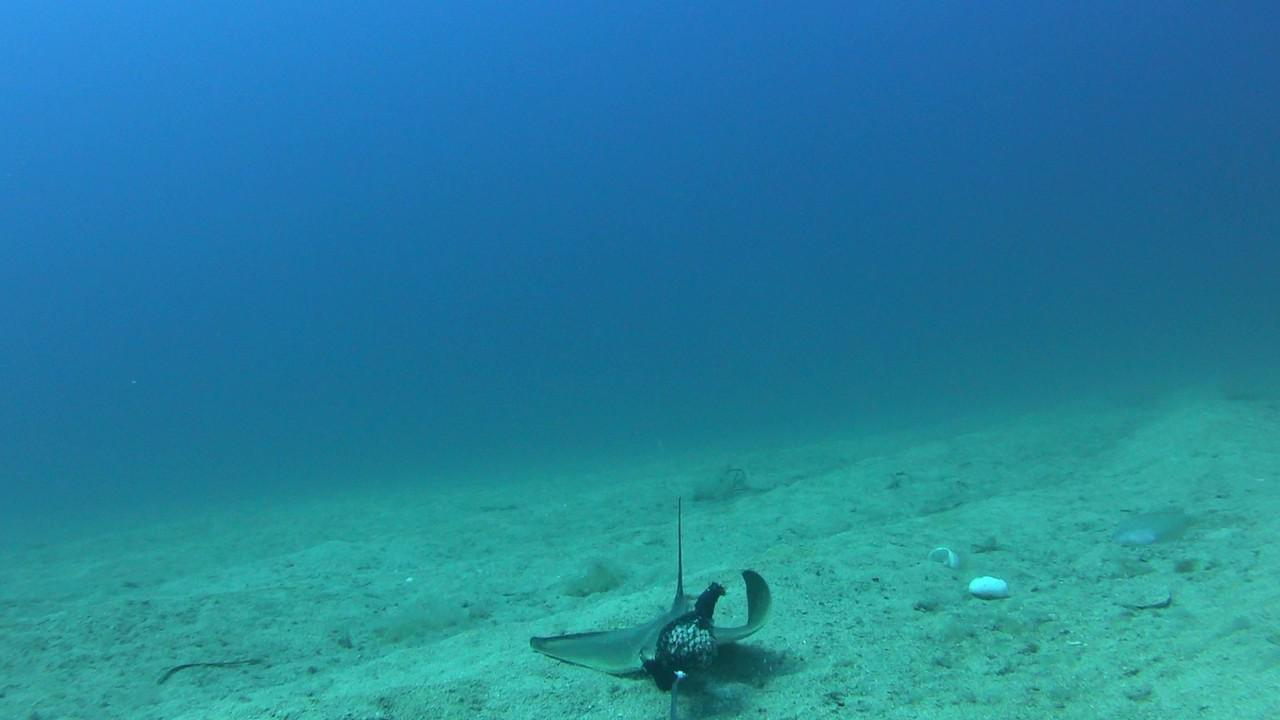myliobatis: (498, 485, 834, 678)
raor: (1110, 508, 1192, 551)
